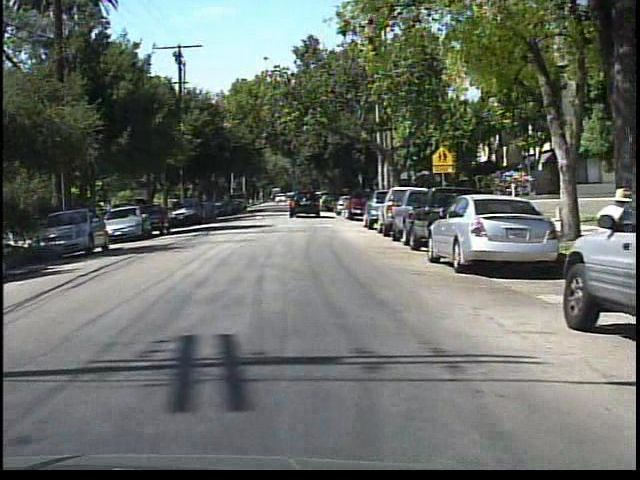person: (590, 175, 632, 313)
